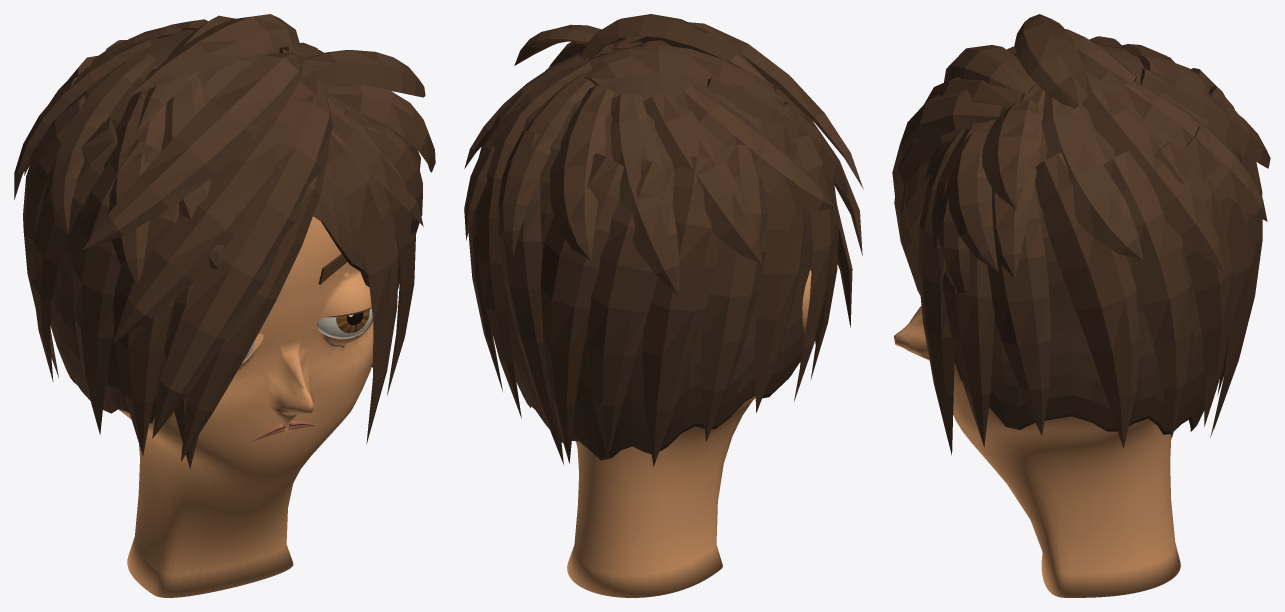
Rendered from base-1-corte-1.glb.
3 renders of one model, left to right at view 1: azimuth 30°, elevation 25°; view 2: azimuth 150°, elevation 25°; view 3: azimuth 270°, elevation 25°, orthographic. The views are drawn at different scales.
Parts seen in each view (by area): view 1: CorteF01_MechasEditaveis005_2, RCL_Base_Feminina_01, CorteF01_MechasEditaveis005_1, CorteF01_MechasEditaveis005_3, CorteF01_MechasEditaveis005, RCL_nose_Pele, RCL_eye-R_Pele, RCL_eye-L_Pele, RCL_Globo_0037; view 2: CorteF01_MechasEditaveis005_2, CorteF01_MechasEditaveis005_3, CorteF01_MechasEditaveis005_1, CorteF01_MechasEditaveis005, RCL_Base_Feminina_01; view 3: CorteF01_MechasEditaveis005_2, CorteF01_MechasEditaveis005_3, CorteF01_MechasEditaveis005_1, RCL_Base_Feminina_01, CorteF01_MechasEditaveis005, RCL_nose_Pele.
Boxes of the visible parts, box(x1,y1,x2,y2) form: CorteF01_MechasEditaveis005_2: box(14, 14, 435, 411); RCL_Base_Feminina_01: box(118, 216, 373, 597); CorteF01_MechasEditaveis005_1: box(14, 15, 433, 461); CorteF01_MechasEditaveis005_3: box(22, 16, 434, 423); CorteF01_MechasEditaveis005: box(23, 28, 431, 469); RCL_nose_Pele: box(267, 339, 314, 425); RCL_eye-R_Pele: box(302, 267, 372, 360); RCL_eye-L_Pele: box(235, 311, 279, 380); RCL_Globo_0037: box(317, 308, 372, 338); CorteF01_MechasEditaveis005_2: box(464, 14, 852, 410); CorteF01_MechasEditaveis005_3: box(471, 14, 859, 460); CorteF01_MechasEditaveis005_1: box(464, 28, 862, 466); CorteF01_MechasEditaveis005: box(464, 41, 863, 464); RCL_Base_Feminina_01: box(567, 395, 755, 597); CorteF01_MechasEditaveis005_2: box(898, 14, 1269, 398); CorteF01_MechasEditaveis005_3: box(898, 14, 1270, 434); CorteF01_MechasEditaveis005_1: box(894, 23, 1269, 448); RCL_Base_Feminina_01: box(953, 362, 1180, 597); CorteF01_MechasEditaveis005: box(892, 36, 1267, 455); RCL_nose_Pele: box(894, 306, 929, 360).
Size of the model in its own units: 0.222 by 0.3331 by 0.2118.
